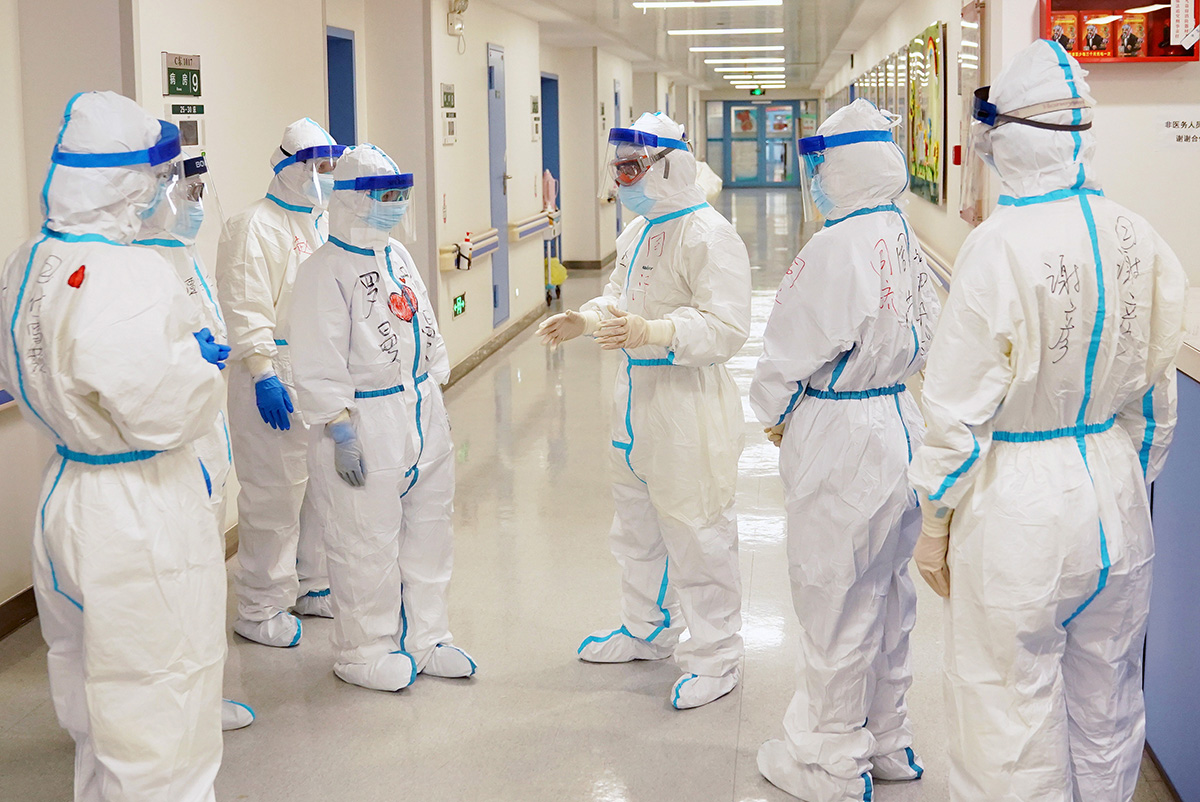Coverall: (935, 35, 1182, 794), (1, 84, 230, 802), (757, 90, 929, 758), (291, 136, 482, 685), (588, 95, 752, 682), (208, 113, 358, 593)
Face_Shield: (938, 80, 1036, 236), (127, 114, 201, 259), (347, 157, 445, 258), (171, 138, 245, 267), (598, 122, 691, 224), (774, 130, 863, 230), (282, 138, 353, 230)
Gloves: (326, 393, 381, 496), (909, 495, 959, 607), (593, 305, 685, 363), (253, 349, 296, 433), (526, 303, 590, 354)
Goggles: (593, 131, 685, 189)
with_mask: (614, 152, 666, 218), (129, 146, 168, 231), (799, 139, 839, 221), (364, 182, 421, 235), (175, 169, 214, 246), (307, 155, 341, 217)
